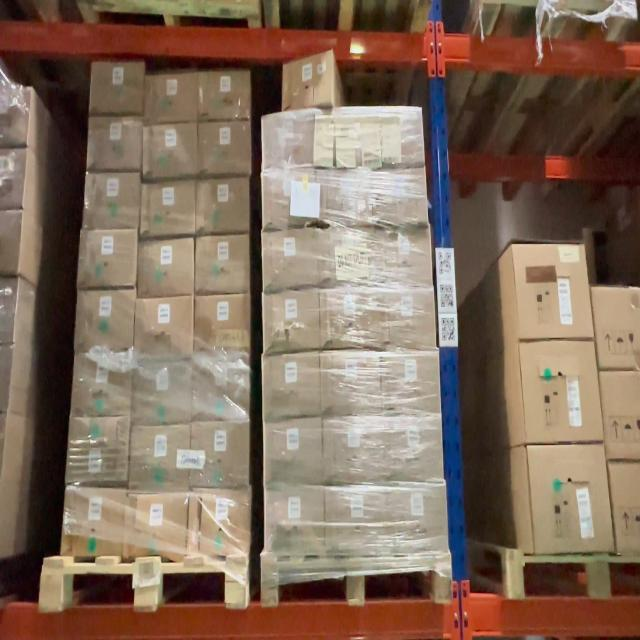box: (532, 447, 610, 552), (523, 343, 599, 442), (518, 242, 588, 335), (64, 490, 125, 556), (329, 489, 388, 553), (192, 492, 250, 556), (71, 419, 128, 484), (192, 423, 250, 485), (392, 487, 448, 551), (133, 428, 190, 490), (324, 352, 381, 414), (266, 488, 322, 551), (328, 422, 386, 482), (128, 496, 186, 556), (597, 288, 640, 368), (266, 421, 321, 482), (76, 354, 131, 415), (78, 291, 134, 350), (379, 288, 435, 347), (387, 421, 443, 480), (136, 364, 191, 424), (383, 354, 439, 412), (266, 355, 320, 415), (266, 291, 320, 350), (195, 359, 249, 418), (196, 295, 250, 354), (323, 290, 378, 346), (318, 112, 375, 166), (266, 232, 319, 290), (605, 372, 640, 459), (378, 230, 432, 286), (80, 232, 134, 287), (138, 299, 190, 356), (139, 241, 192, 295), (263, 172, 316, 226), (198, 237, 250, 291), (322, 229, 373, 284), (143, 182, 195, 235), (91, 118, 143, 170), (321, 171, 373, 223), (145, 124, 196, 177), (199, 179, 250, 232), (94, 61, 145, 112), (89, 176, 139, 228), (202, 122, 252, 173), (267, 116, 316, 168), (284, 57, 332, 109), (374, 111, 420, 165), (376, 172, 423, 224), (146, 74, 196, 122), (202, 72, 251, 120), (0, 278, 16, 342)
